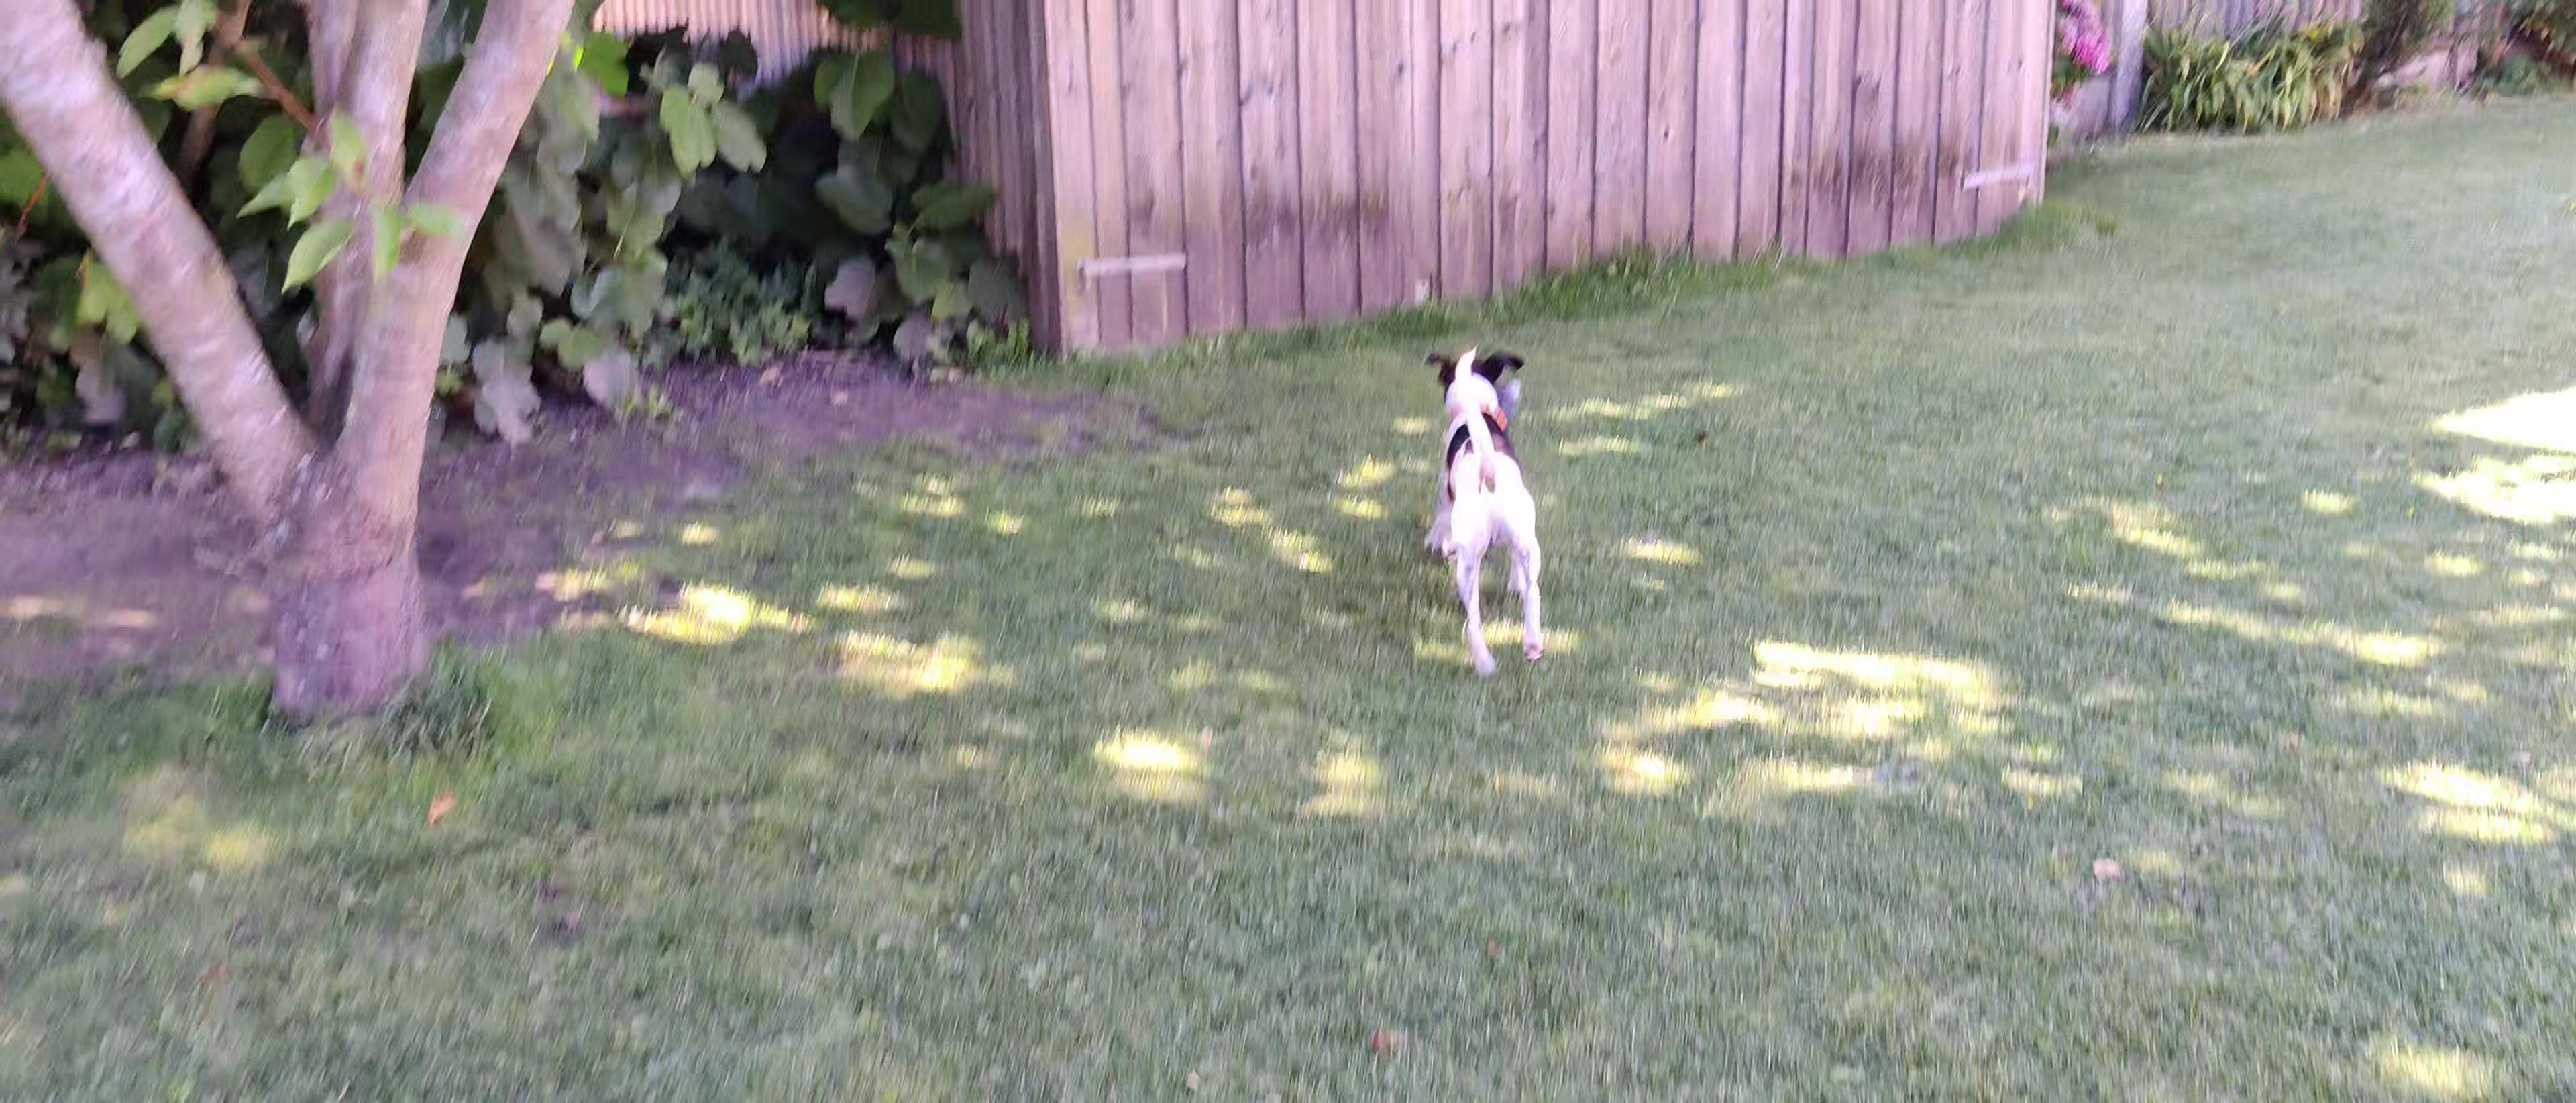Dog: (1413, 335, 1561, 687)
